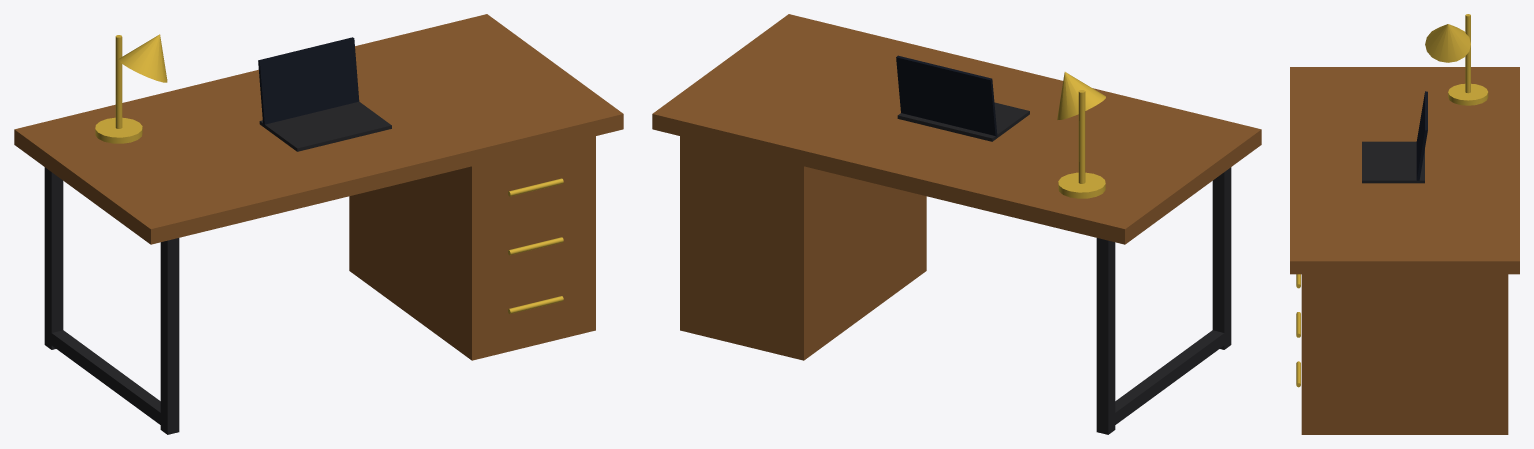
File: study-desk.glb
3 views of the same model, side by side, from view 1: azimuth 30°, elevation 25°; view 2: azimuth 150°, elevation 25°; view 3: azimuth 270°, elevation 25° (orthographic). The views are drawn at different scales.
Visible parts, largest first — view 1: desk_top, pedestal, StudyDesk, accessory_laptop, accessory_laptop_base, accessory_lamp, accessory_lamp_base; view 2: desk_top, pedestal, StudyDesk, accessory_laptop, accessory_laptop_base, accessory_lamp, accessory_lamp_base; view 3: desk_top, pedestal, accessory_laptop_base, accessory_lamp, accessory_lamp_base, StudyDesk, accessory_laptop.
Boxes of the visible parts, x1,y1,x2,y2 form: desk_top: (14, 14, 623, 244); pedestal: (349, 136, 595, 360); StudyDesk: (44, 35, 563, 434); accessory_laptop: (258, 37, 359, 125); accessory_laptop_base: (259, 101, 391, 151); accessory_lamp: (118, 34, 167, 82); accessory_lamp_base: (95, 117, 142, 143); desk_top: (652, 14, 1261, 244); pedestal: (680, 136, 926, 360); StudyDesk: (1078, 90, 1231, 434); accessory_laptop: (896, 55, 997, 137); accessory_laptop_base: (897, 102, 1029, 141); accessory_lamp: (1057, 72, 1105, 119); accessory_lamp_base: (1058, 172, 1105, 198); desk_top: (1290, 67, 1519, 274); pedestal: (1301, 274, 1508, 434); accessory_laptop_base: (1362, 141, 1424, 183); accessory_lamp: (1425, 24, 1470, 62); accessory_lamp_base: (1448, 83, 1488, 105); StudyDesk: (1296, 14, 1470, 387); accessory_laptop: (1416, 91, 1427, 180).
Bounding box in the file's own units: 1.6 × 1.03 × 0.8.
